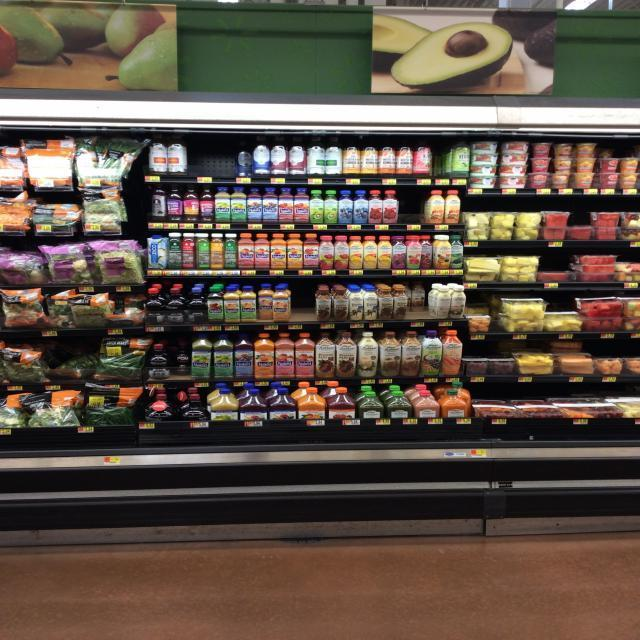empty: (191, 143, 234, 183), (292, 282, 314, 330), (401, 190, 421, 230)
